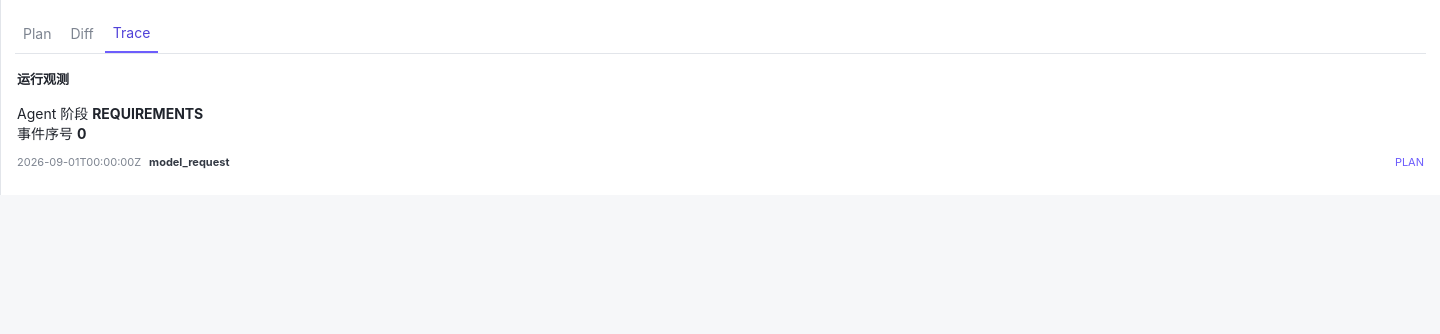
Test case: RightPanel trace › shows event time and state with expandable JSON details
expect the text "PLAN" is shown: met, box [1395, 155, 1424, 169]
expect the text "2026-09-01T00:00:00Z" is shown: met, box [17, 155, 141, 169]
What coordinates should you click on to do the following:
click the text "model_request"
I would click on:
 (189, 162)
Its box is [149, 155, 230, 169].
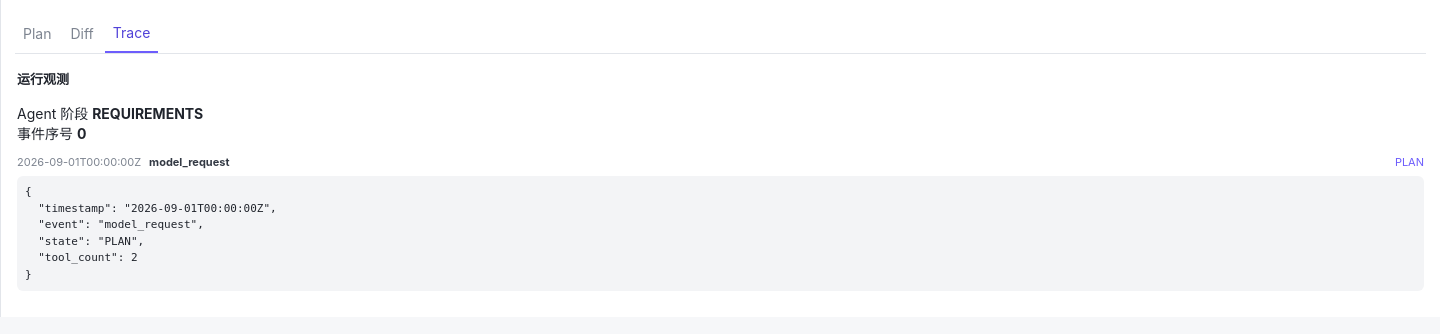
expect the text "\"tool_count\": 2" is shown: met, box [25, 185, 277, 280]
